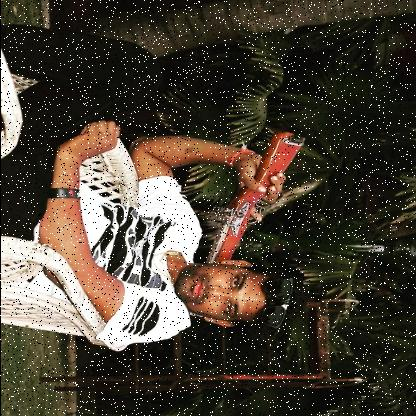rifle: (202, 128, 308, 266)
